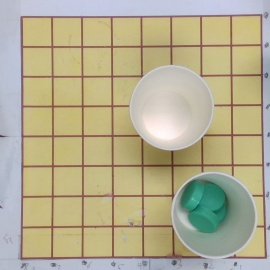cup: (129, 66, 214, 153)
cup_green: (171, 172, 259, 259)
